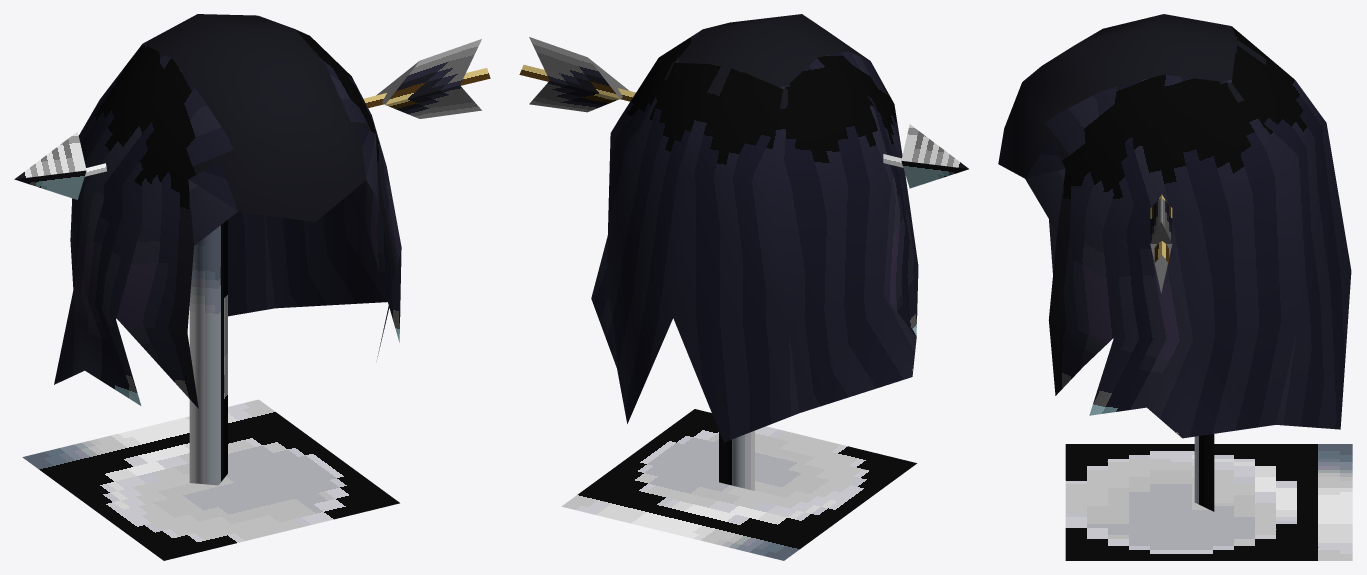
The picture shows the model from 3 angles, left to right: view 1: azimuth 30°, elevation 25°; view 2: azimuth 150°, elevation 25°; view 3: azimuth 270°, elevation 25°; orthographic projection. The views are drawn at different scales.
Parts seen in each view (by area): view 1: 2909head042_c; view 2: 2909head042_c; view 3: 2909head042_c.
Part boxes in pixels (x1,y1,x2,y2): 2909head042_c: (14,14,490,560); 2909head042_c: (519,14,968,560); 2909head042_c: (998,14,1352,560).
Bounding box in the file's own units: 0.9265 × 0.8855 × 0.5925.
2 materials, 2 textured.
